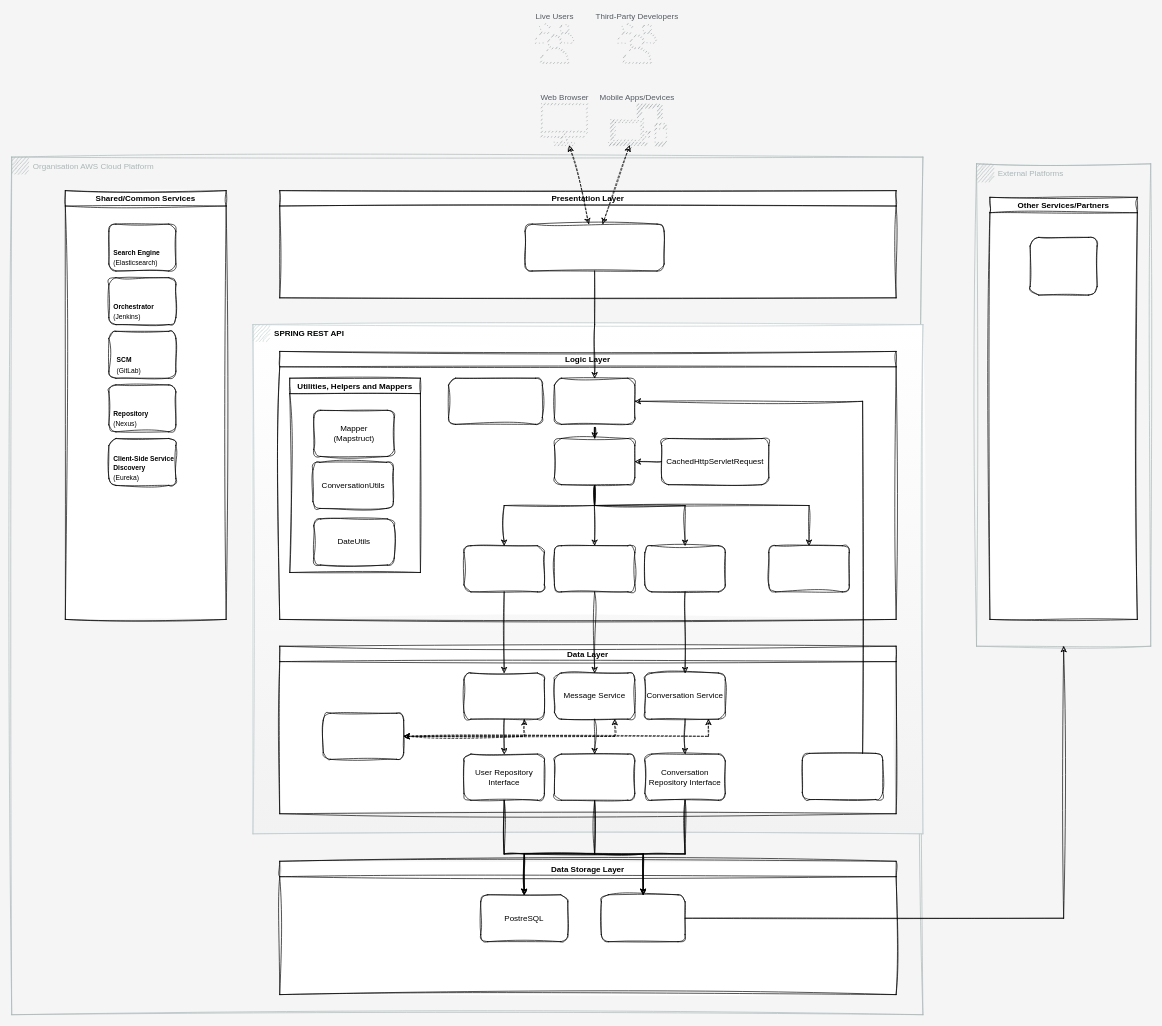
This 1162x1026 diagram has some shape labels left out. The shapes that lost their labels are listed below. From the top down, each one's centre as x and y in pixels, then its label:
[594,247]: Full-Stack NextJS Application
[1063,266]: Image Storage (Cloudinary)
[495,401]: Auth Controller (Only Controller That Allows Cross Origin)
[594,401]: JWT Filter (Higher Predence)
[594,461]: Request Caching Filter
[503,568]: User Controller
[594,568]: Message Controller
[684,568]: Conversation Controller
[808,568]: JSON Argument Resolver
[503,695]: User Service
[363,736]: Caffeine Cache
[594,776]: Message Repository Interface
[842,776]: JWT Token Service
[643,918]: BLOB Images (Cloudinary)
